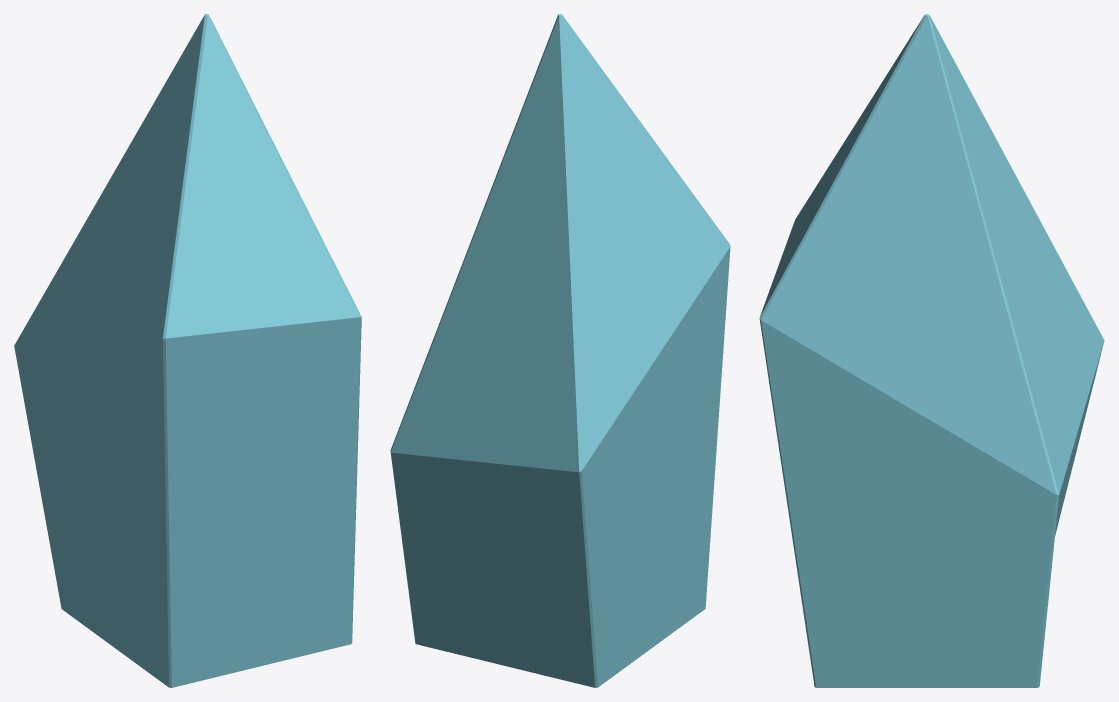
File: Icespike_Small.fbx
3 renders of one model, left to right at view 1: azimuth 30°, elevation 25°; view 2: azimuth 150°, elevation 25°; view 3: azimuth 270°, elevation 25°, orthographic. The views are drawn at different scales.
Parts seen in each view (by area): view 1: Ice spike small; view 2: Ice spike small; view 3: Ice spike small.
Boxes of the visible parts, x1=… form: Ice spike small: x1=14, y1=14, x2=361, y2=687; Ice spike small: x1=390, y1=14, x2=730, y2=687; Ice spike small: x1=759, y1=14, x2=1104, y2=687.
Bounding box in the file's own units: 17.24 × 47.15 × 23.46.
